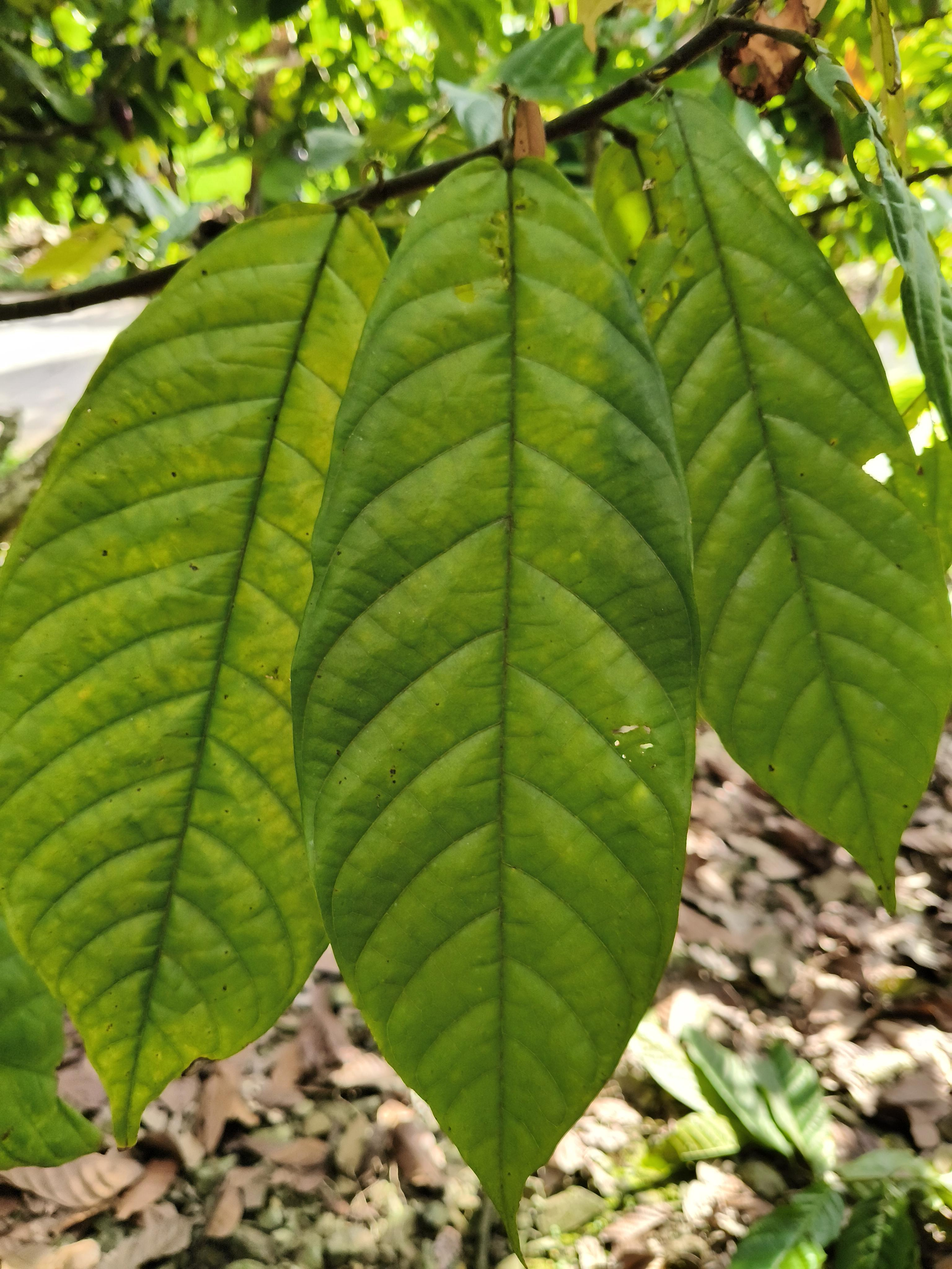deficiencia_potasio: (288, 170, 700, 1264)
